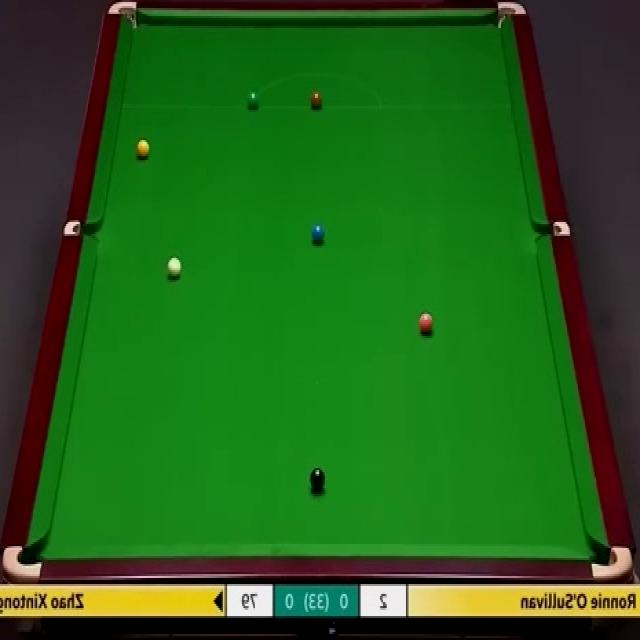pocket: (590, 542, 633, 582), (3, 540, 43, 580), (108, 0, 141, 32), (497, 1, 526, 28), (64, 218, 100, 237), (535, 222, 573, 238)
